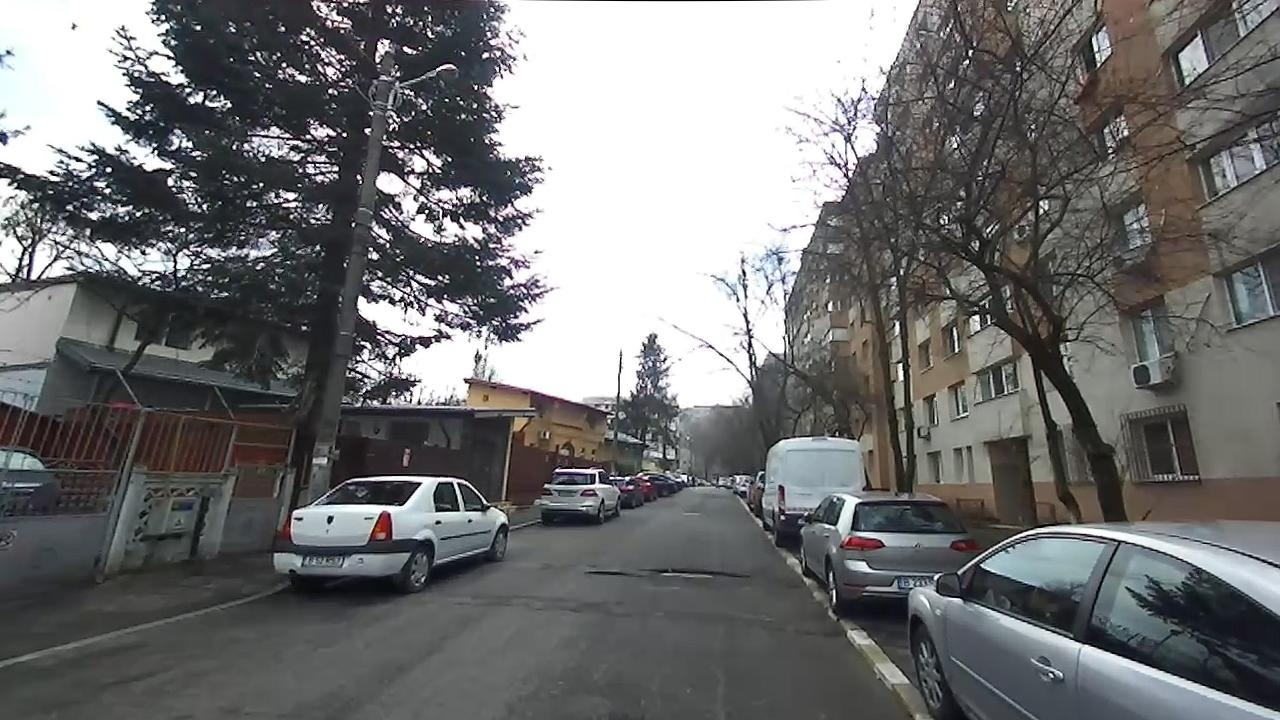pothole: (657, 567, 746, 577), (585, 571, 634, 577)
